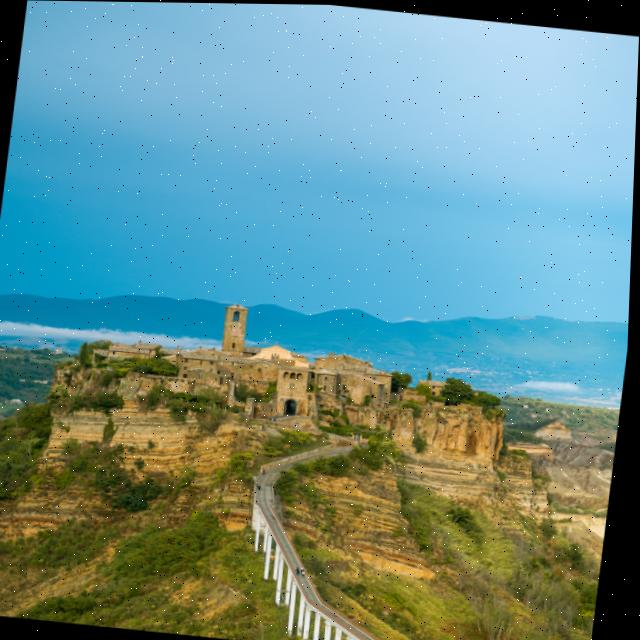building: (102, 329, 400, 418), (219, 302, 248, 355)
